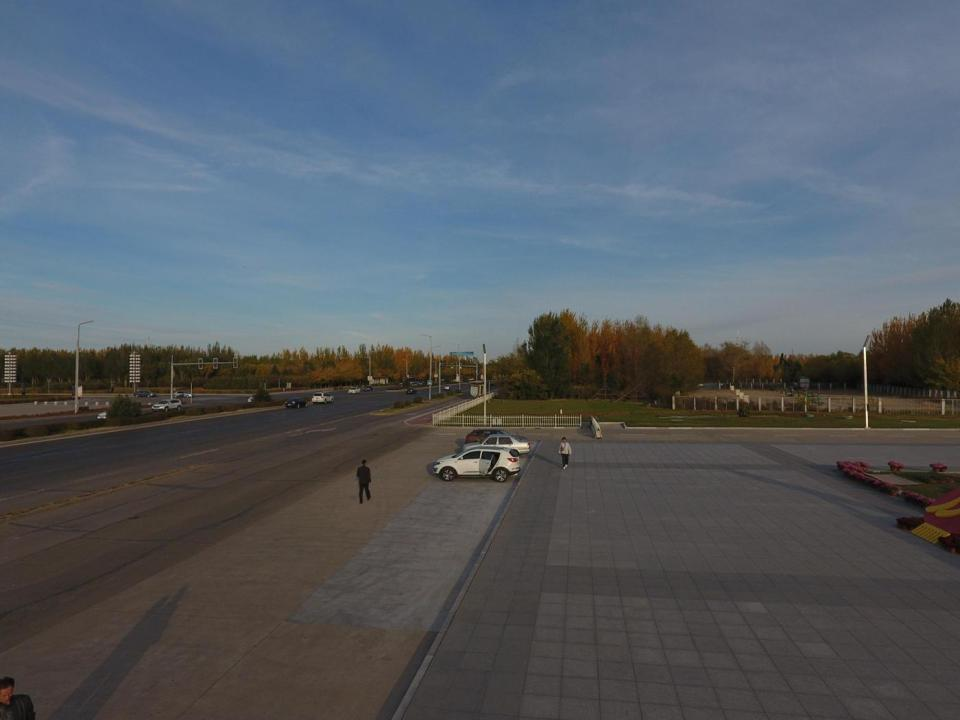car: (433, 444, 521, 482), (461, 434, 531, 458), (465, 429, 528, 447), (151, 399, 182, 412), (311, 391, 335, 404), (97, 408, 123, 420), (284, 398, 308, 409), (133, 390, 157, 398), (248, 393, 264, 403), (173, 391, 195, 398), (347, 386, 361, 395), (405, 386, 417, 395), (363, 385, 375, 392), (443, 383, 452, 390)
